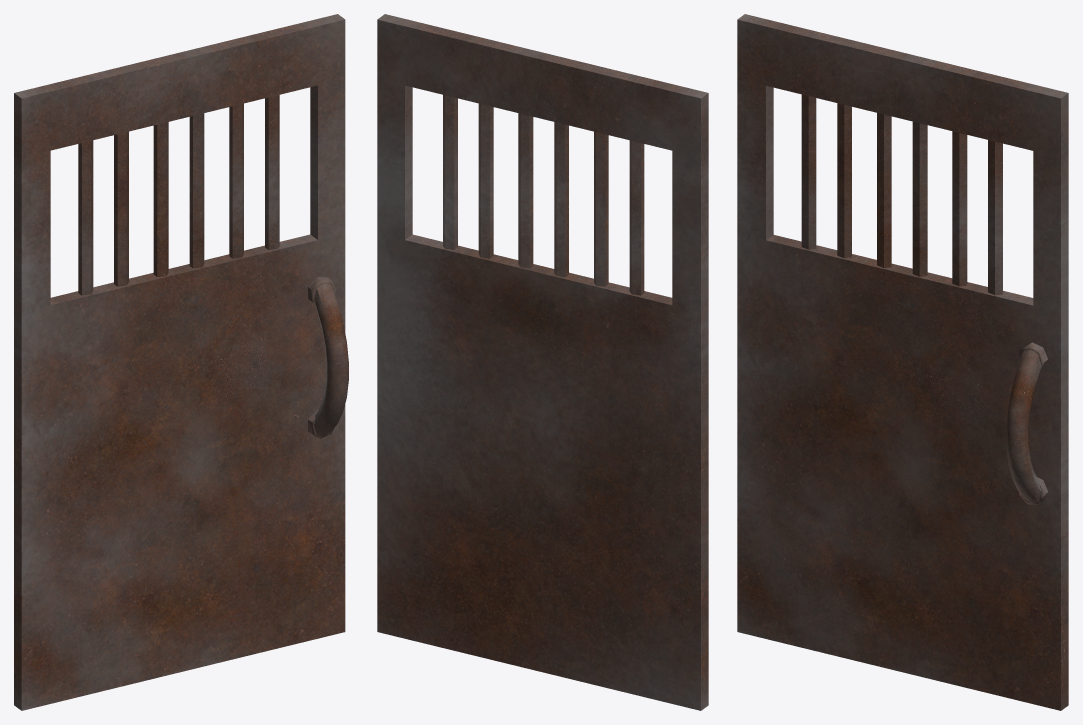
The model's file is Rouya_door_futsu.fbx.
3 renders of one model, left to right at view 1: azimuth 30°, elevation 25°; view 2: azimuth 150°, elevation 25°; view 3: azimuth 330°, elevation 25°, orthographic.
Visible parts, largest first — view 1: Rouya_Door1; view 2: Rouya_Door1; view 3: Rouya_Door1.
Boxes of the visible parts, <box> form: Rouya_Door1: <box>14,14,348,710</box>; Rouya_Door1: <box>377,14,708,710</box>; Rouya_Door1: <box>737,14,1068,710</box>.
Bounding box in the file's own units: 10.96 × 19.81 × 1.82.
